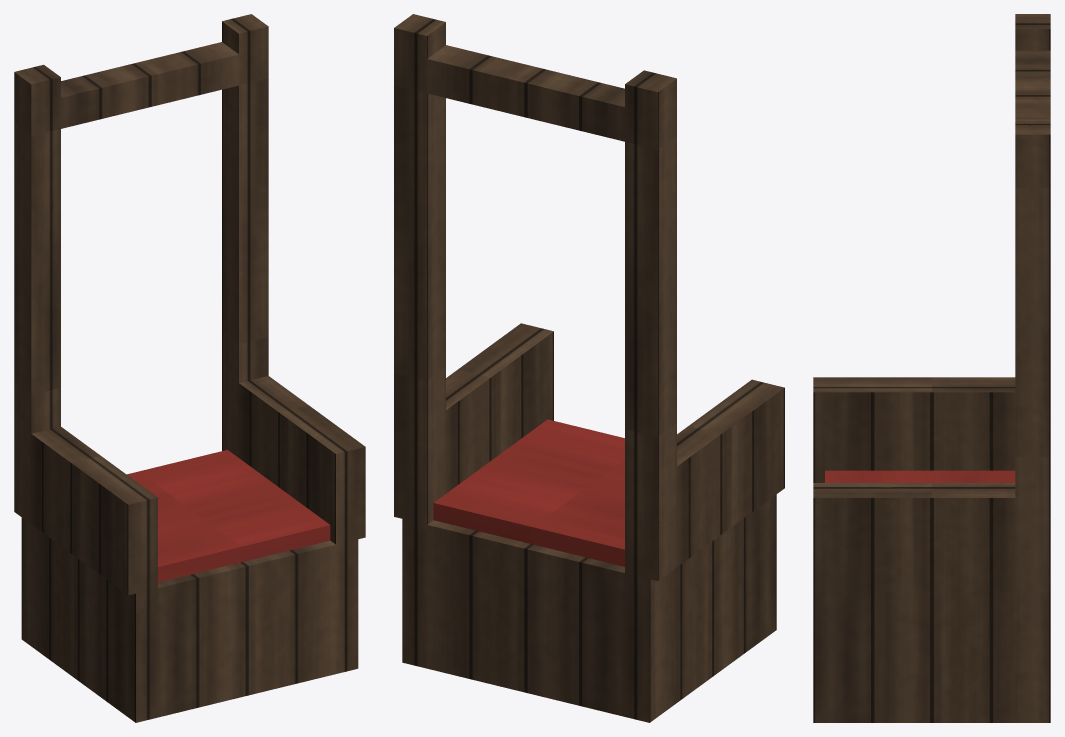
File: Throne_Wood_1_LOD2.gltf
3 views of the same model, side by side, from view 1: azimuth 30°, elevation 25°; view 2: azimuth 150°, elevation 25°; view 3: azimuth 270°, elevation 25° (orthographic). The views are drawn at different scales.
Visible parts, largest first — view 1: Throne_Wood_1_LOD2; view 2: Throne_Wood_1_LOD2; view 3: Throne_Wood_1_LOD2.
Part boxes in pixels (bbox=[...]): Throne_Wood_1_LOD2: bbox=[14, 14, 365, 722]; Throne_Wood_1_LOD2: bbox=[394, 14, 784, 722]; Throne_Wood_1_LOD2: bbox=[813, 14, 1050, 722].
Size of the model in its own units: 0.96 by 2.2 by 0.8.
2 materials, 2 textured.
